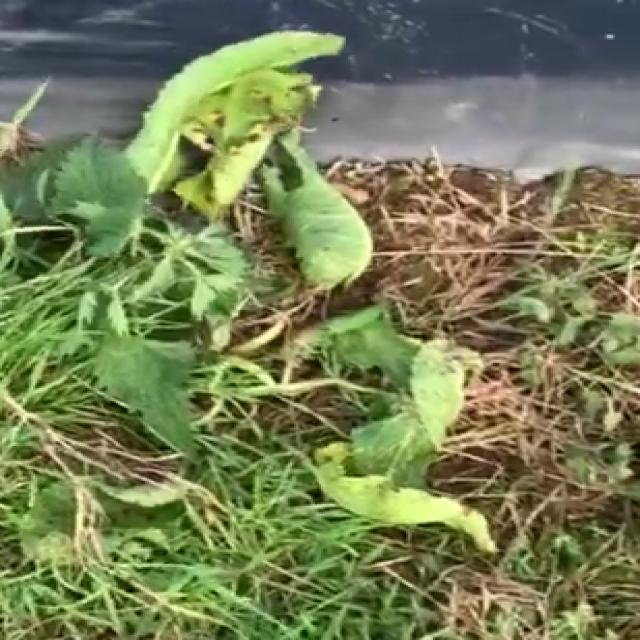organic waste: (51, 0, 366, 219)
